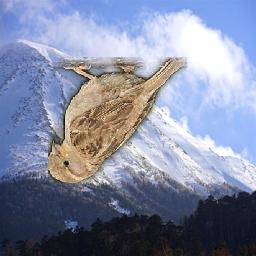Sparrow: (49, 57, 188, 183)
